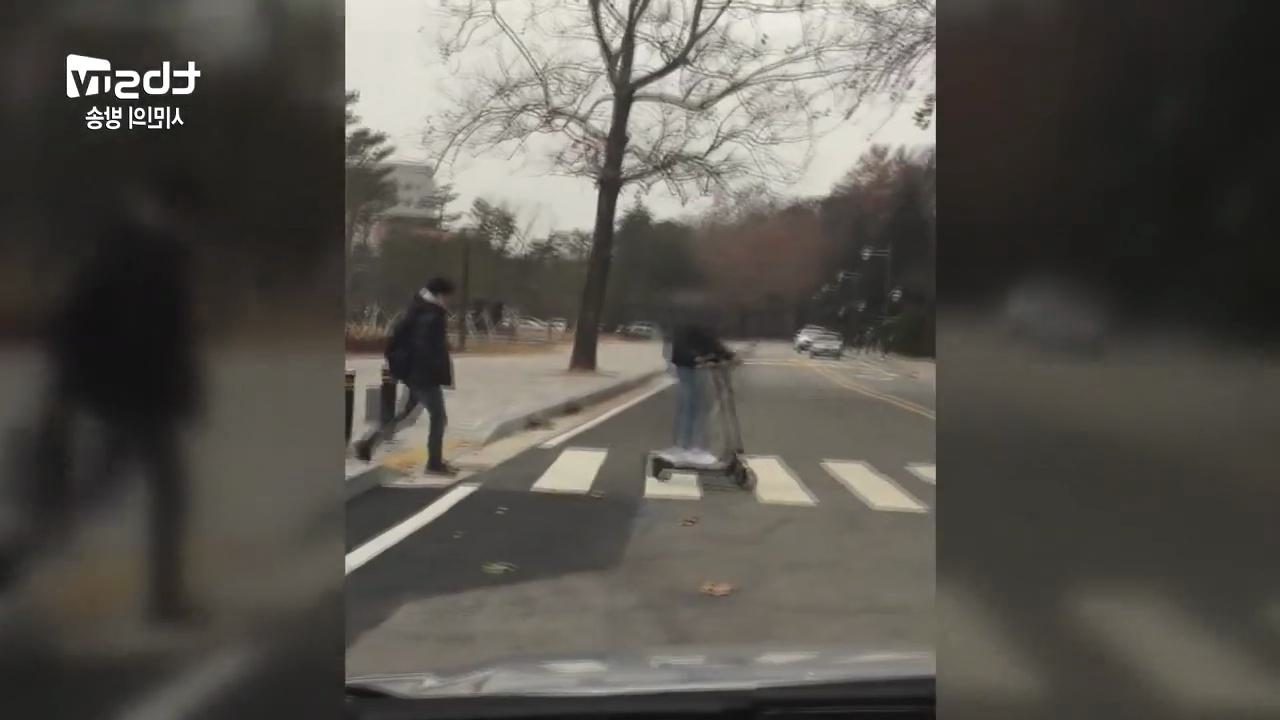nonhelmet: (641, 283, 764, 488)
